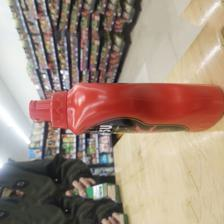Chinsu: (28, 80, 224, 136)
